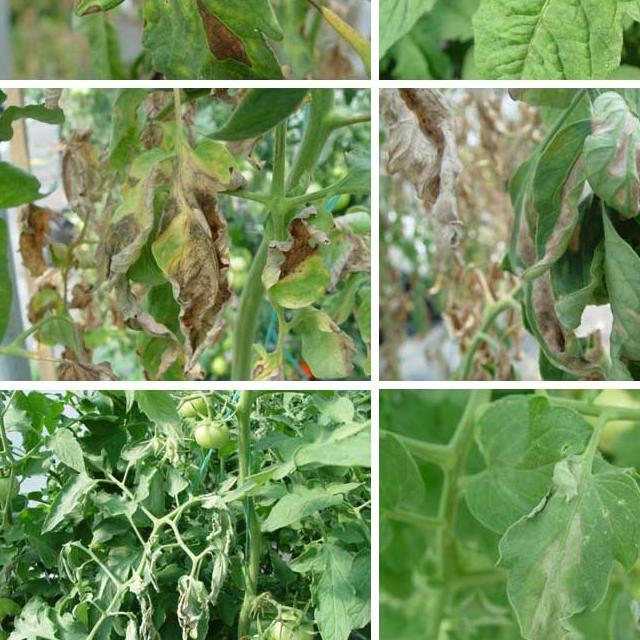Tomato leaf bacterial spot: (57, 0, 301, 69)
